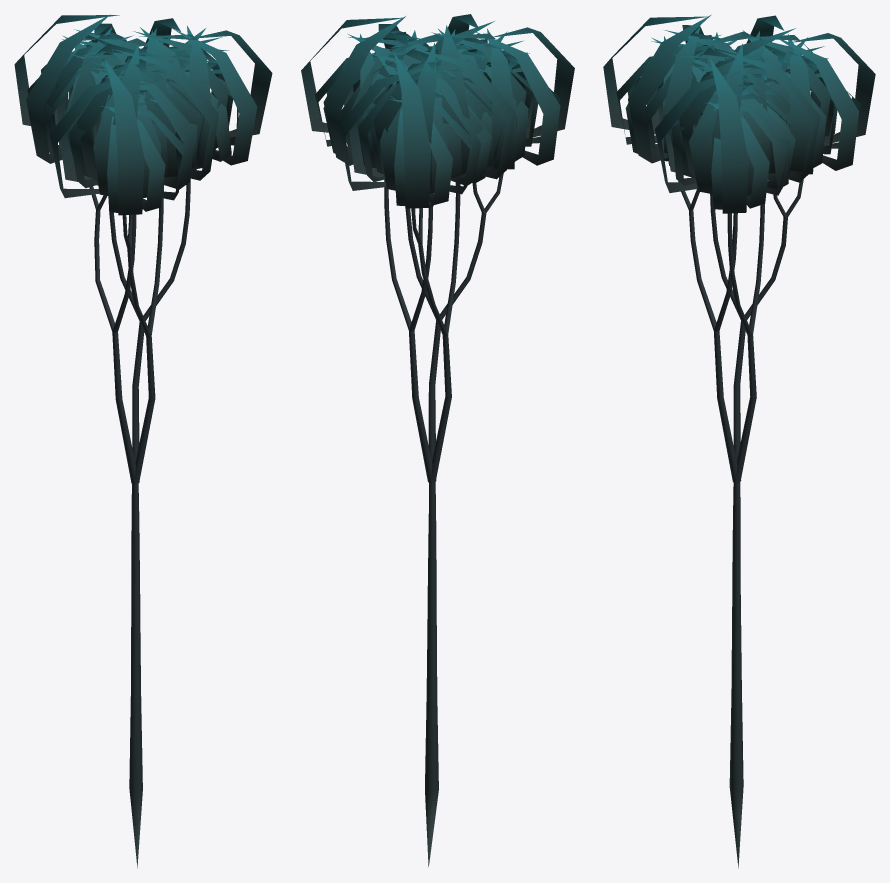
The model's file is plants-flowers-teal-globe-flower_v3.glb.
3 renders of one model, left to right at view 1: azimuth 30°, elevation 25°; view 2: azimuth 150°, elevation 25°; view 3: azimuth 270°, elevation 25°, orthographic.
Parts seen in each view (by area): view 1: Teal Globe Flower_v3; view 2: Teal Globe Flower_v3; view 3: Teal Globe Flower_v3.
Boxes of the visible parts, x1,y1,x2,y2 form: Teal Globe Flower_v3: (14,14,272,868); Teal Globe Flower_v3: (301,14,574,866); Teal Globe Flower_v3: (603,14,875,868).
Bounding box in the file's own units: 0.1742 × 0.6 × 0.1771.
